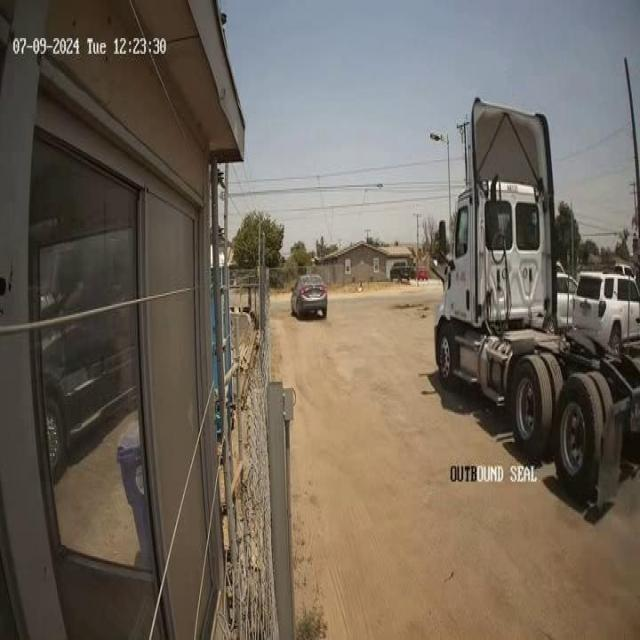TRUCK_OUT: (430, 94, 639, 517)
